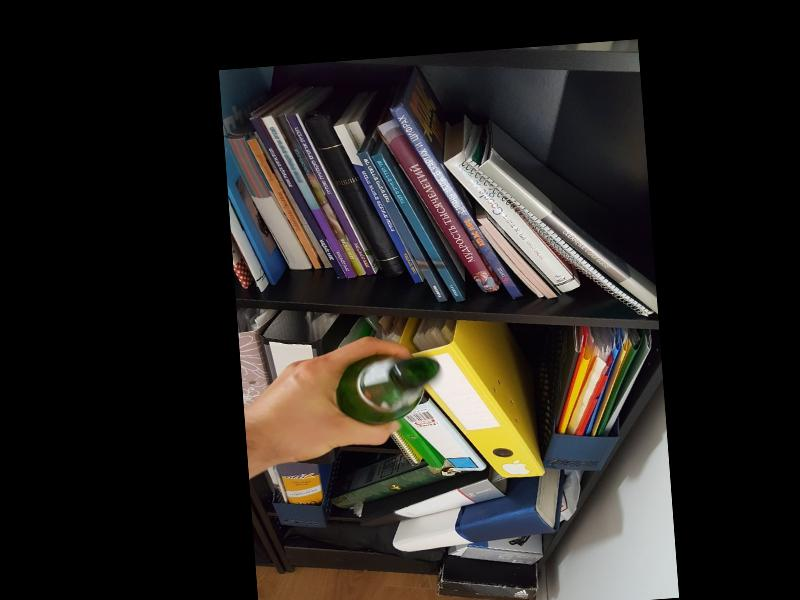Beer: (333, 351, 442, 427)
